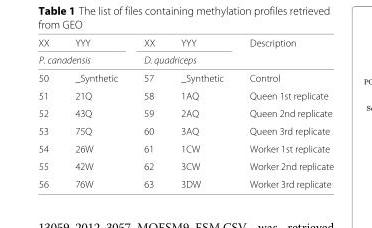table: (37, 36, 333, 189)
table column: (236, 36, 333, 189), (61, 36, 130, 189), (167, 36, 236, 189), (130, 36, 167, 189), (37, 36, 61, 189)
table column header: (37, 36, 333, 68)
table row: (37, 50, 333, 68), (37, 68, 333, 86), (37, 86, 333, 104), (37, 121, 333, 139), (37, 139, 333, 157), (37, 104, 333, 121), (37, 157, 333, 174), (37, 174, 333, 189), (37, 36, 333, 50)
table spanning cell: (236, 36, 333, 68), (130, 50, 236, 68), (37, 50, 130, 68)
